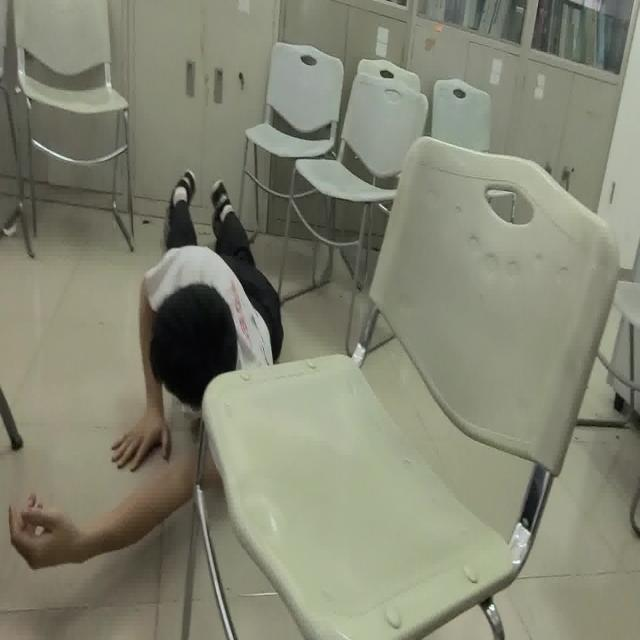Fall-Detected: (6, 164, 287, 574)
